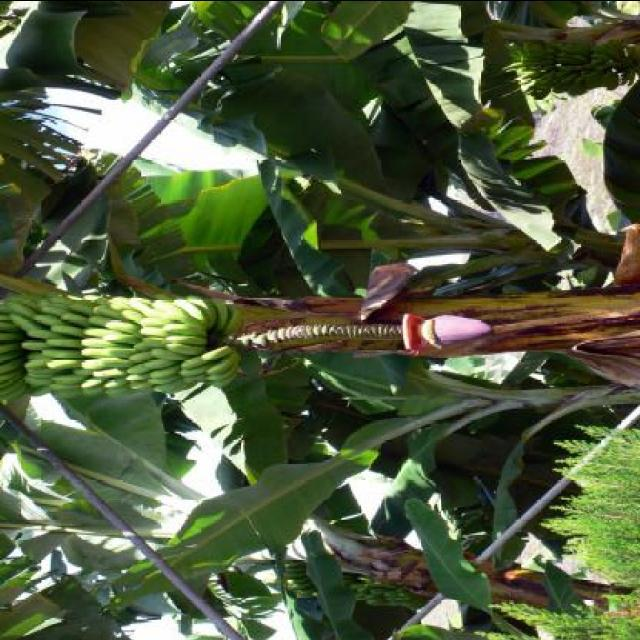Banana: (0, 289, 242, 405), (507, 42, 639, 100), (284, 559, 434, 607)
